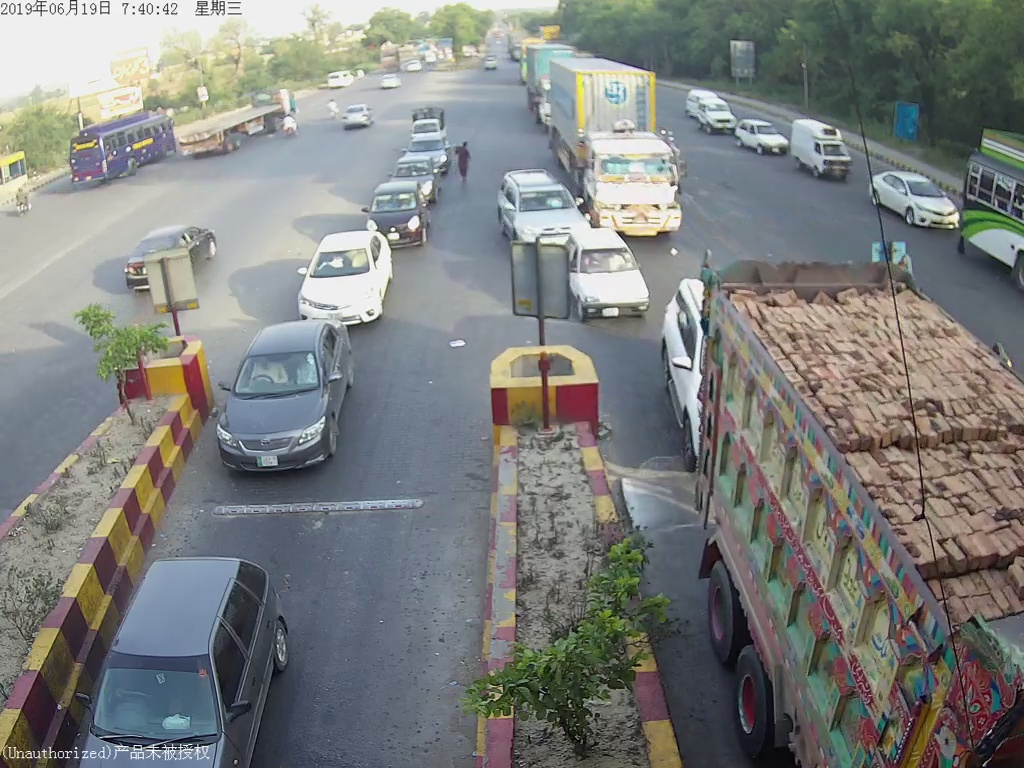Cat-1: (224, 329, 361, 464), (295, 225, 395, 322), (567, 230, 653, 325), (497, 168, 572, 235), (367, 186, 424, 240)
Cat-5: (573, 66, 684, 231)
